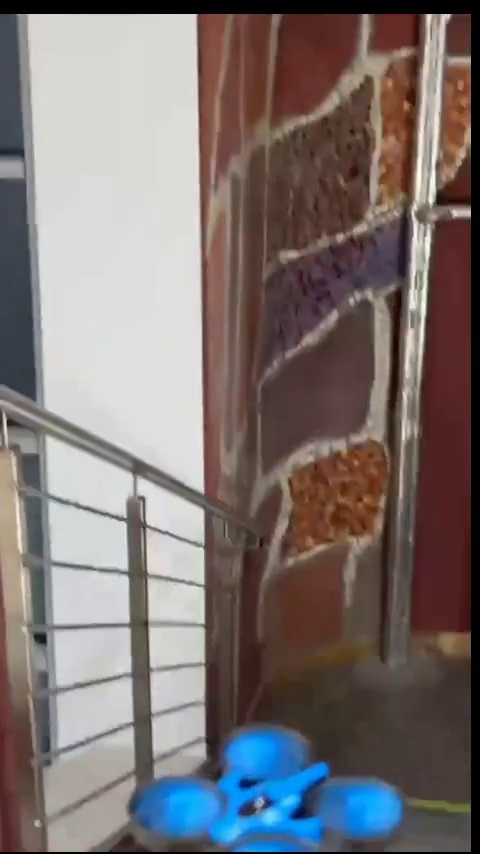drone: (132, 728, 414, 852)
